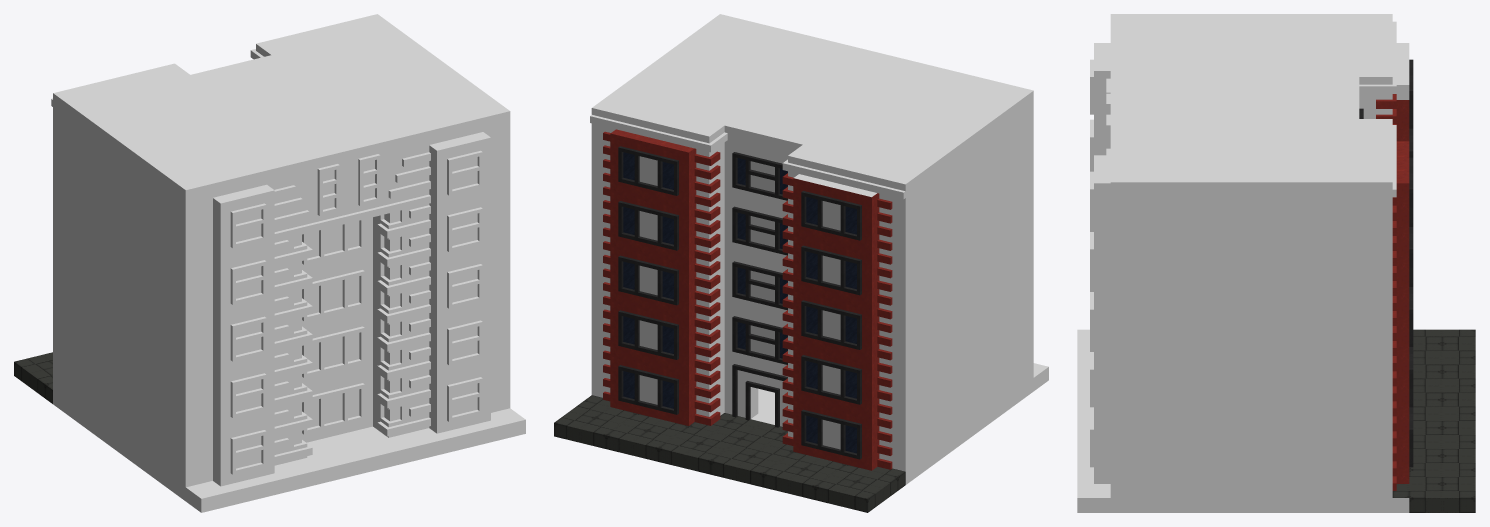
File: zdanie.fbx
3 renders of one model, left to right at view 1: azimuth 30°, elevation 25°; view 2: azimuth 150°, elevation 25°; view 3: azimuth 270°, elevation 25°, orthographic. The views are drawn at different scales.
Visible parts, largest first — view 1: здание.001; view 2: здание.001; view 3: здание.001.
Part boxes in pixels (<box>): здание.001: <box>14,14,525,512</box>; здание.001: <box>554,14,1048,512</box>; здание.001: <box>1077,14,1475,512</box>.
Bounding box in the file's own units: 2400 × 2200 × 2400.
